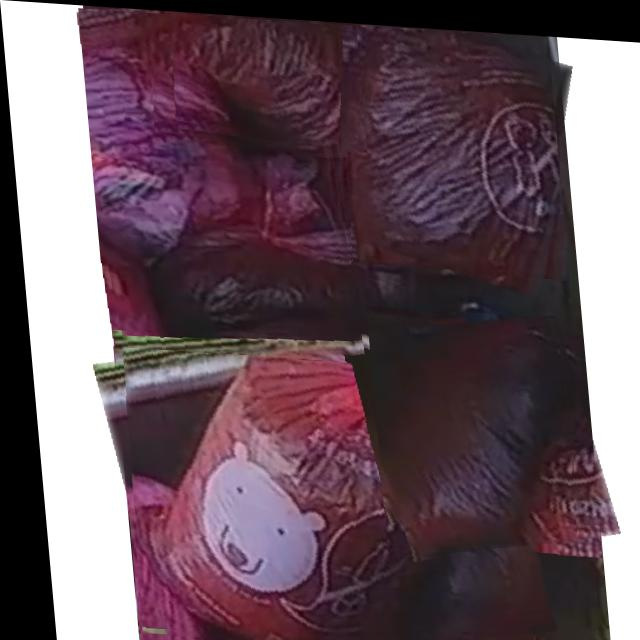other_trashbag: (122, 318, 478, 640), (78, 9, 349, 349), (345, 22, 557, 288), (369, 310, 556, 551), (170, 10, 357, 143), (145, 12, 148, 13)
